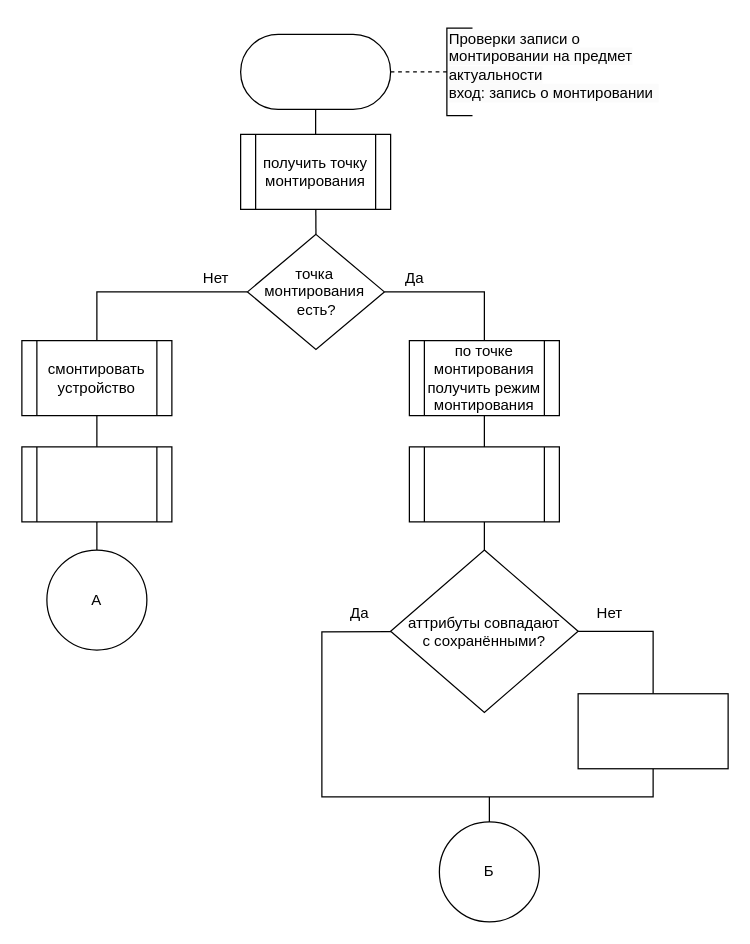
The diagram is 750 pixels wide and 944 high, and some of its shapes have lost their labels. The box of each missing label's shape, as (x1, y1, x2, y2) in pixels:
начало: (239, 33, 391, 109)
обновить аттрибуты в записи: (577, 692, 728, 769)
перезаписать запись: (21, 446, 172, 522)
получить аттрибуты устройства по devNode: (408, 446, 559, 522)
